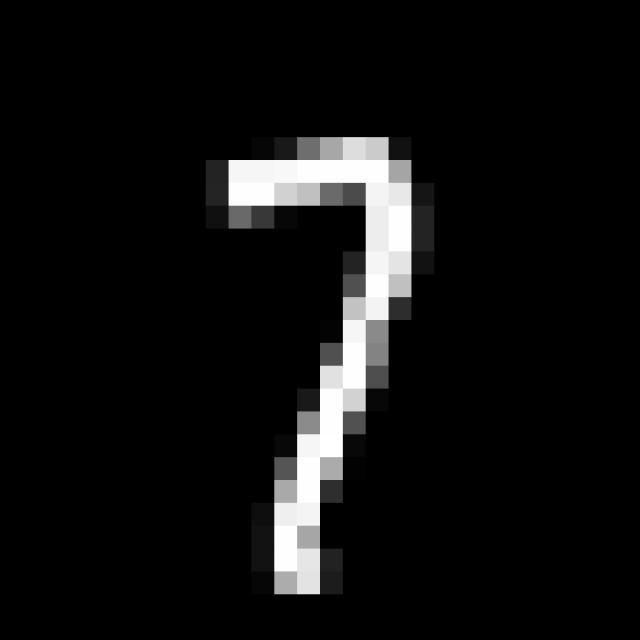seven -7-: (217, 126, 428, 610)
